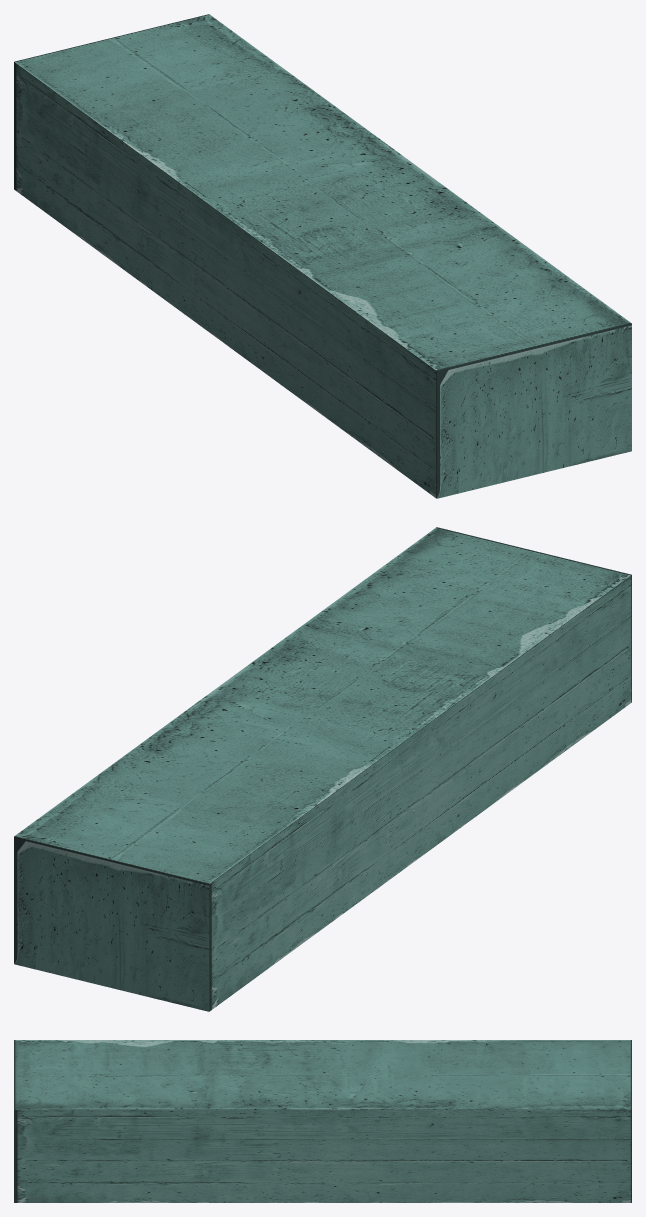
The model's file is step.glb.
The picture shows the model from 3 angles, top to bottom: view 1: azimuth 30°, elevation 25°; view 2: azimuth 150°, elevation 25°; view 3: azimuth 270°, elevation 25°; orthographic projection. The views are drawn at different scales.
Visible parts, largest first — view 1: crate; view 2: crate; view 3: crate.
Part boxes in pixels (x1,y1,x2,y2): crate: (14, 14, 631, 498); crate: (14, 527, 631, 1011); crate: (14, 1040, 631, 1202).
Bounding box in the file's own units: 0.4 × 0.25 × 1.5.
3 materials, 3 textured.
